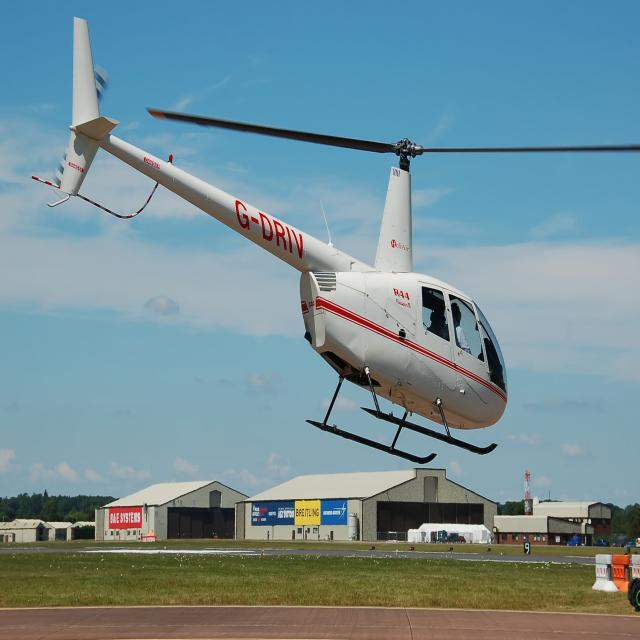CIV_HELO: (55, 13, 509, 465)
